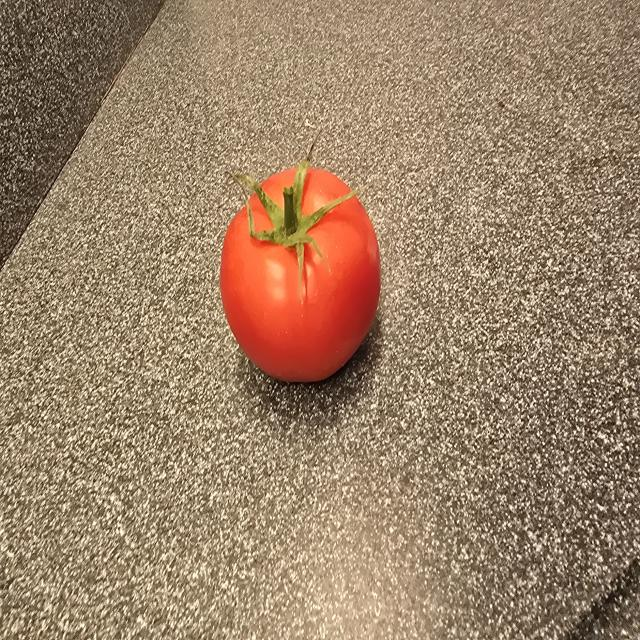Tomato: (220, 166, 380, 382)
